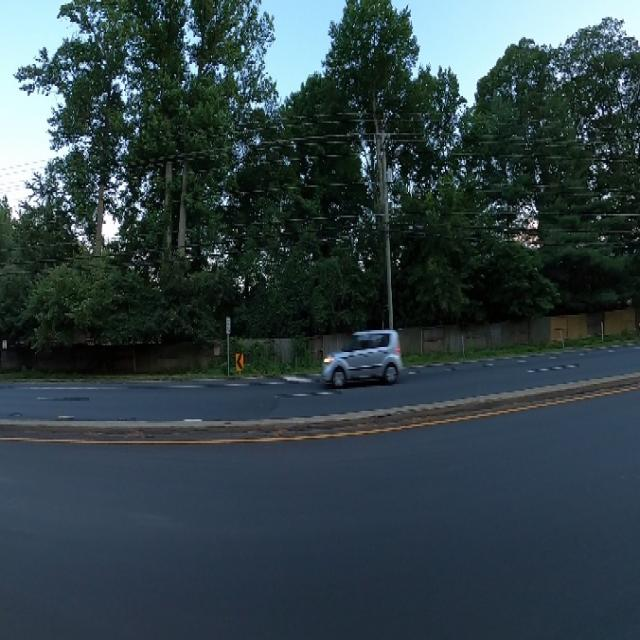car: (314, 324, 407, 393)
